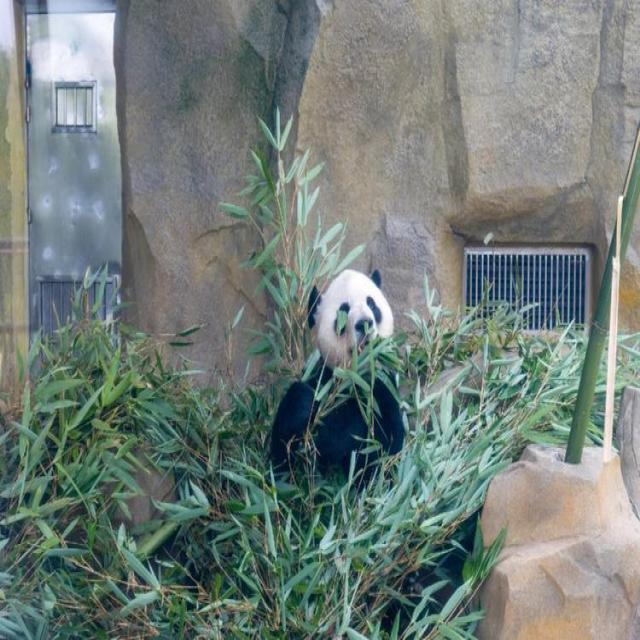panda: (260, 266, 407, 492)
